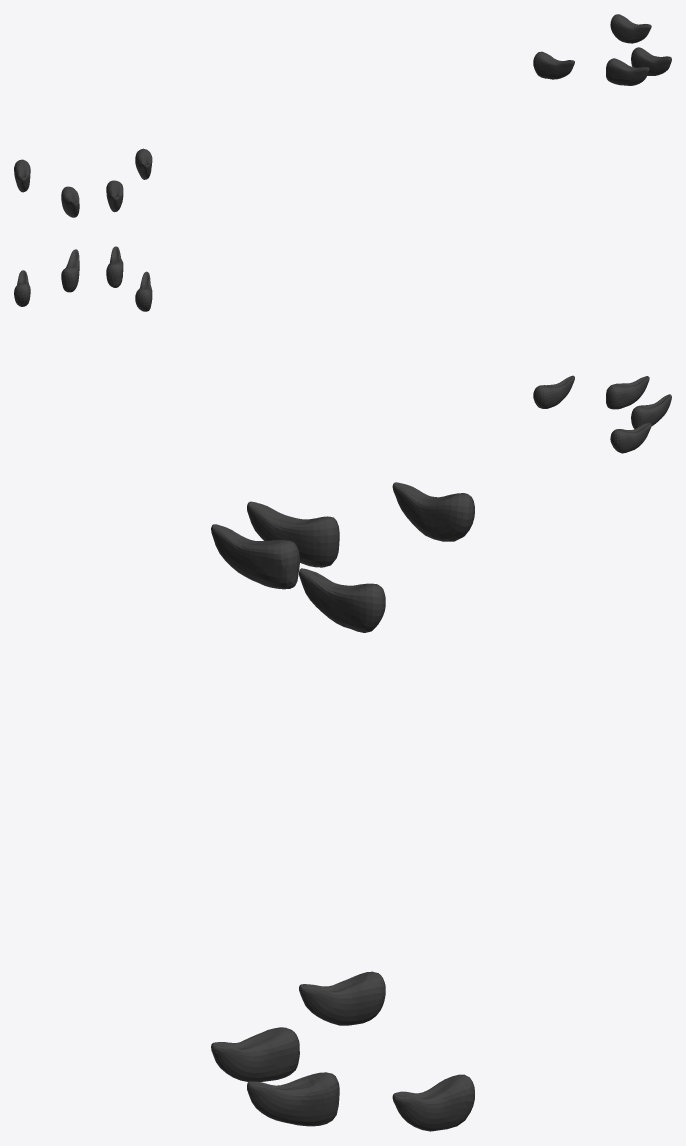
File: HL_nails_1.glb
The picture shows the model from 3 angles, top to bottom: view 1: azimuth 30°, elevation 25°; view 2: azimuth 150°, elevation 25°; view 3: azimuth 270°, elevation 25°; orthographic projection. The views are drawn at different scales.
Parts seen in each view (by area): view 1: HL_nails_1; view 2: HL_nails_1; view 3: HL_nails_1.
Boxes of the visible parts, left/top/right/bottom form: HL_nails_1: left=14, top=14, right=671, bottom=217; HL_nails_1: left=14, top=246, right=671, bottom=453; HL_nails_1: left=211, top=482, right=474, bottom=1131.
Size of the model in its own units: 0.00732 by 0.000379 by 0.00133.
Materials: 1 (1 with a texture image).
